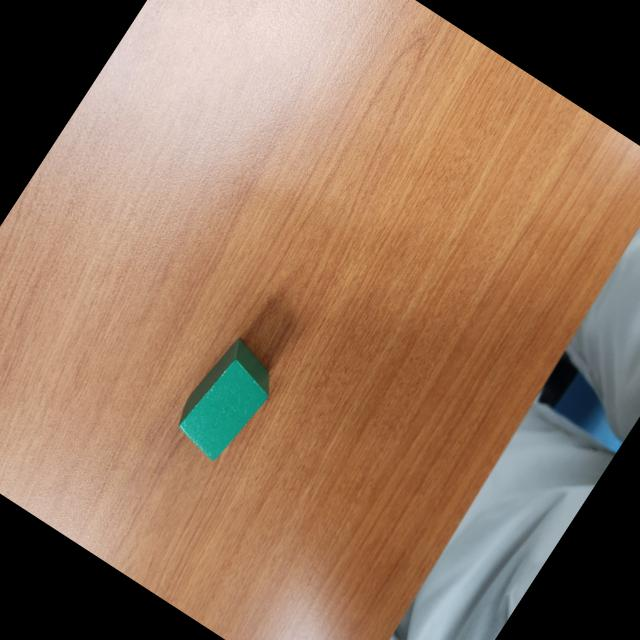green: (166, 331, 286, 467)
